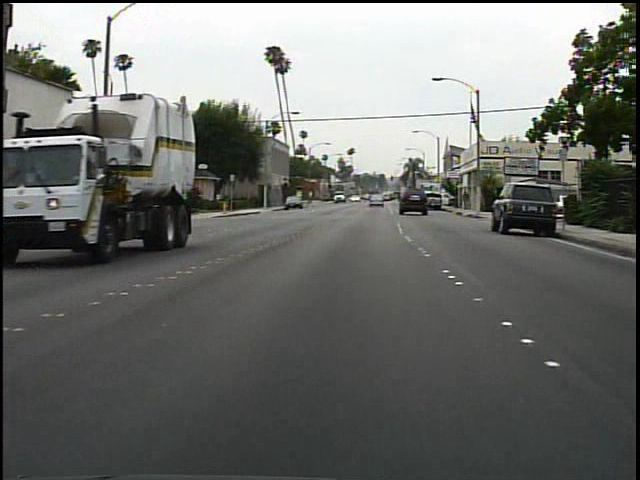person: (457, 187, 475, 215)
